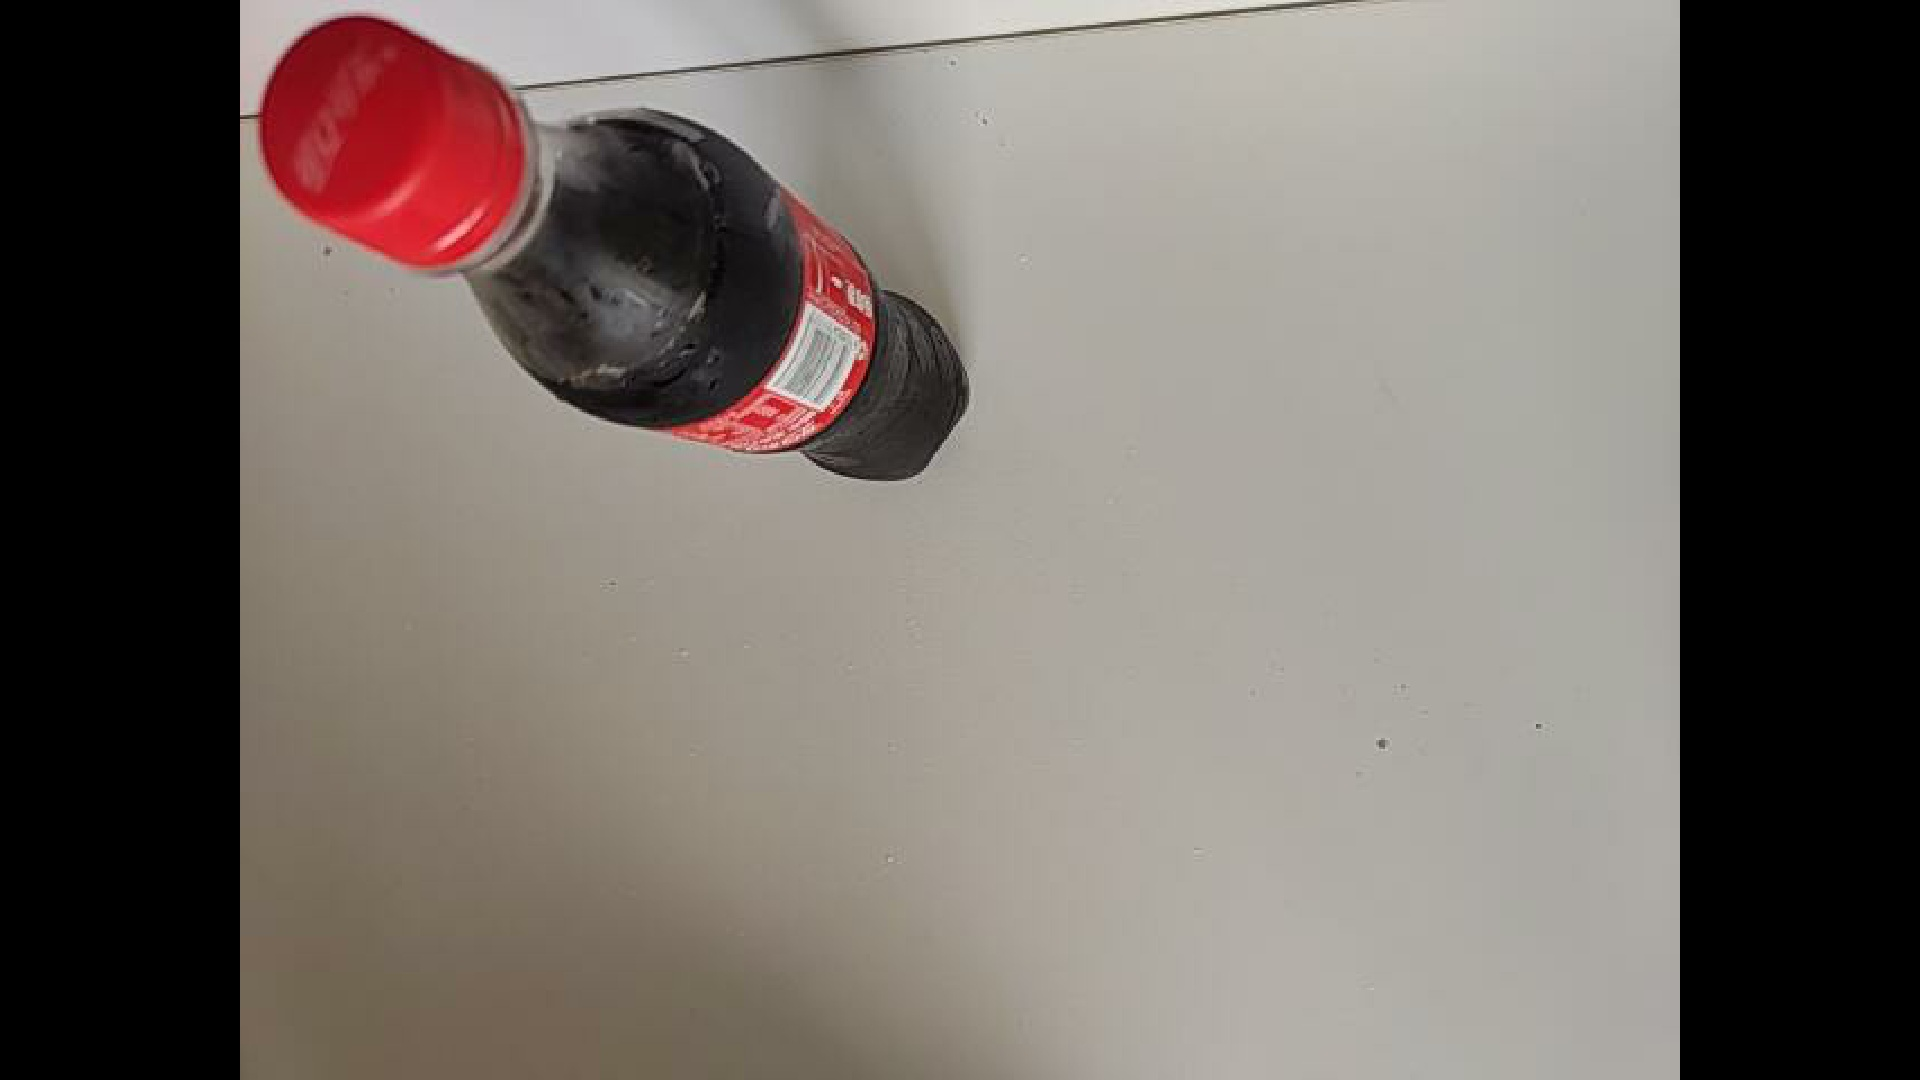cola: (257, 13, 971, 484)
